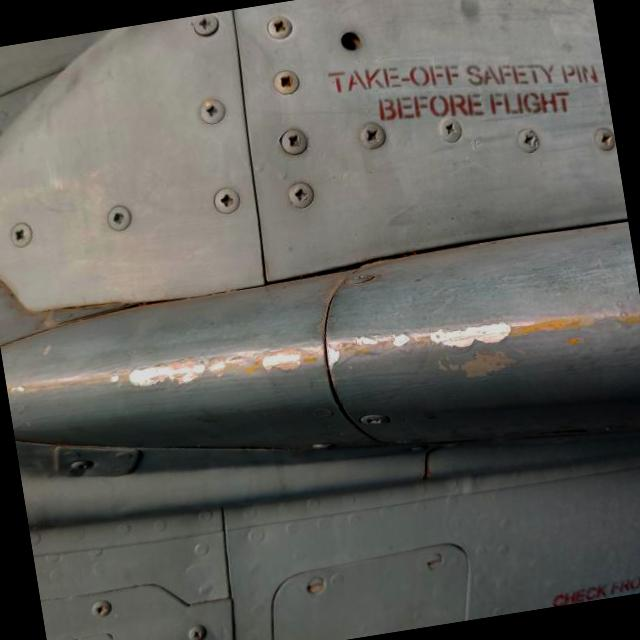paint-off: (114, 264, 616, 438)
